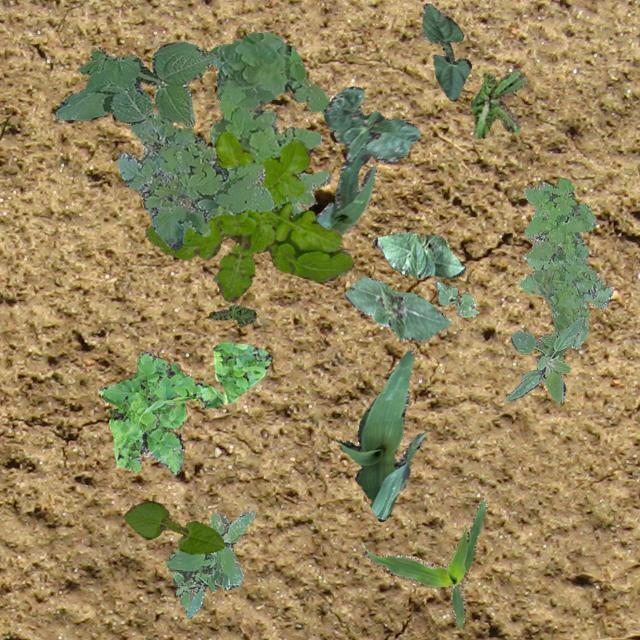crop: (362, 496, 486, 628), (336, 350, 424, 520), (322, 86, 420, 162), (344, 276, 451, 342), (314, 148, 376, 234), (122, 500, 224, 552), (422, 2, 471, 100), (372, 230, 464, 278), (433, 280, 478, 316)
weed: (144, 130, 352, 300), (208, 31, 329, 218), (116, 113, 272, 250), (518, 176, 612, 348), (54, 41, 215, 126), (99, 349, 198, 474), (164, 508, 256, 618), (506, 316, 584, 402), (190, 342, 270, 408), (470, 68, 526, 138), (208, 304, 255, 326)
